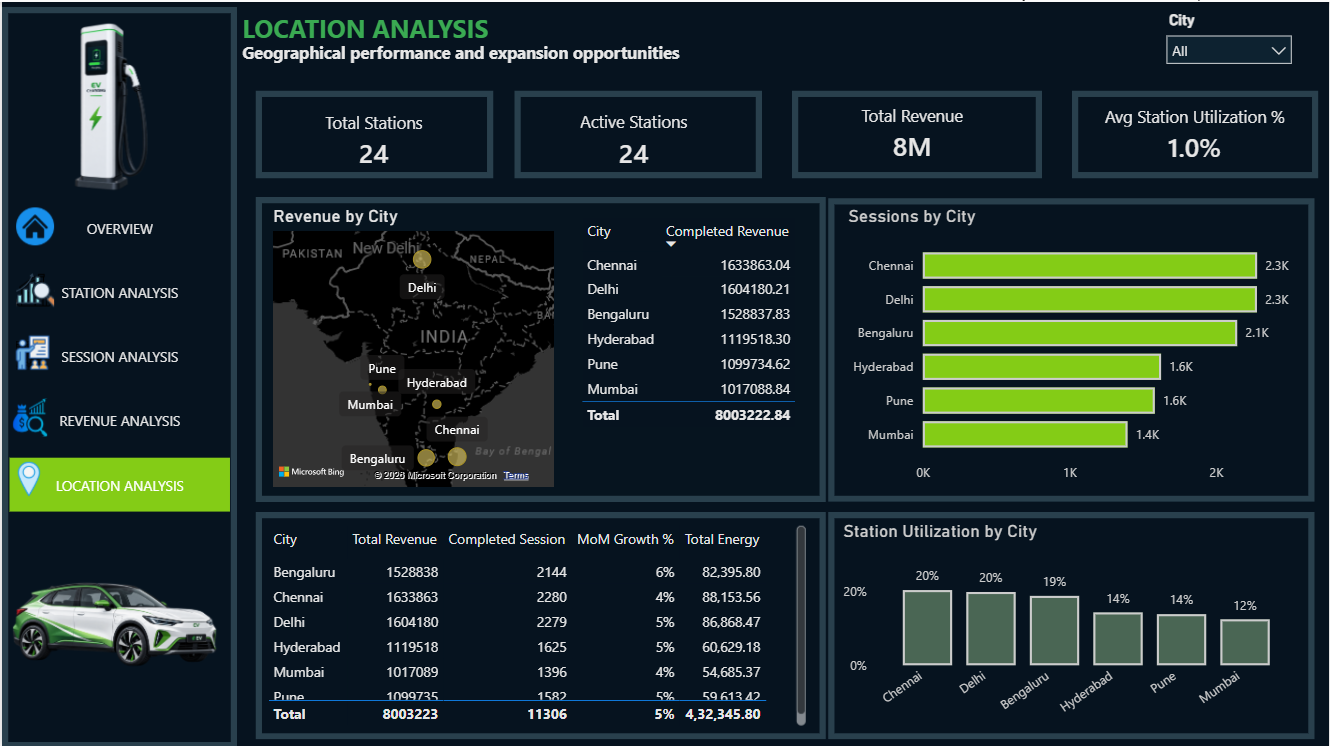

This screenshot's page, from the dashboard's own definition file:
{"tool":"powerbi","page":{"name":"LOCATION ANALYSIS","canvas":[1280,720],"ordinal":4},"visuals":[{"type":"actionButton","box":[4.8,482.6,208.7,229.2],"z":0},{"type":"shape","box":[0,4.6,226.8,715.4],"z":1000},{"type":"pageNavigator","box":[7.2,191.8,213.5,300.4],"z":2000},{"type":"textbox","box":[226.8,4.8,739.5,42.2],"z":3000},{"type":"textbox","box":[226.8,32.6,744.4,49.5],"z":4000},{"type":"actionButton","box":[10,253.8,42.5,50],"z":5000},{"type":"actionButton","box":[9.7,194.2,44.6,44.6],"z":6000},{"type":"actionButton","box":[10,256.3,45,45],"z":7000},{"type":"actionButton","box":[10.1,318.2,32.7,42.8],"z":8000},{"type":"actionButton","box":[10.1,321.9,32.7,40.2],"z":9000},{"type":"actionButton","box":[7.2,316.1,44.6,44.6],"z":10000},{"type":"actionButton","box":[4.8,378.8,44.6,44.6],"z":11000},{"type":"actionButton","box":[3.6,437.9,44.6,44.6],"z":12000},{"type":"actionButton","box":[16.9,14.5,196.6,173.7],"z":13000},{"type":"cardVisual","fields":{"Data":["measure.Total Stations"]},"box":[244.9,79.6,228,108.6],"z":14000},{"type":"shape","box":[244.9,85.7,229.2,84.5],"z":15000},{"type":"shape","box":[494.6,85.7,238.9,84.5],"z":16000},{"type":"shape","box":[762.5,85.7,241.3,84.5],"z":17000},{"type":"shape","box":[1032.7,85.7,237.7,84.5],"z":18000},{"type":"cardVisual","fields":{"Data":["measure.Active Stations"]},"box":[486.2,70,247.3,126.7],"z":19000},{"type":"cardVisual","fields":{"Data":["measure.Total Revenue"]},"box":[754,78.4,249.7,97.7],"z":20000},{"type":"cardVisual","fields":{"Data":["measure.Avg Station Utilization %"]},"box":[1029.1,70,244.9,115.8],"z":21000},{"type":"shape","box":[244.9,188.2,550.1,294.4],"z":22000},{"type":"slicer","fields":{"Values":["EV_Charging_Station.City"]},"box":[1113.5,3.6,141.2,57.9],"z":23000},{"type":"shape","box":[797.5,189.4,469.3,293.2],"z":24000},{"type":"map","title":"Revenue by City ","fields":{"Category":["EV_Charging_Station.City"],"Size":["measure.Completed Revenue"]},"box":[257,196.6,281.1,276.3],"z":25000},{"type":"tableEx","fields":{"Values":["EV_Charging_Station.City","measure.Completed Revenue"]},"box":[553.8,203.9,226.8,234],"z":26000},{"type":"shape","box":[244.9,492.2,550.1,219.6],"z":27000},{"type":"clusteredBarChart","title":"Sessions by City ","fields":{"Category":["EV_Charging_Station.City"],"Y":["measure.Completed Session"]},"box":[811.9,196.6,442.8,276.3],"z":28000},{"type":"clusteredColumnChart","title":"Station Utilization by City ","fields":{"Category":["EV_Charging_Station.City"],"Y":["Sum(EV_Charging_Station.Station_Utilization_%)"]},"box":[807.1,500.7,447.6,202.7],"z":29000},{"type":"shape","box":[797.5,492.2,469.3,219.6],"z":30000},{"type":"tableEx","fields":{"Values":["EV_Charging_Station.City","measure.Total Revenue","measure.Completed Session","measure.MoM Growth %","measure.Total Energy"]},"box":[250.9,500.7,529.6,202.7],"z":31000}]}

Visuals, with their boxes in screenshot pixels (x1, y1, x2, y2), scaled from the page's 1280x720 canvas onto the 1330x746 screenshot:
actionButton: bbox=[5, 500, 222, 738]
shape: bbox=[0, 5, 236, 745]
pageNavigator: bbox=[7, 199, 229, 510]
textbox: bbox=[236, 5, 1004, 49]
textbox: bbox=[236, 34, 1009, 85]
actionButton: bbox=[10, 263, 55, 315]
actionButton: bbox=[10, 201, 56, 247]
actionButton: bbox=[10, 266, 57, 312]
actionButton: bbox=[10, 330, 44, 374]
actionButton: bbox=[10, 334, 44, 375]
actionButton: bbox=[7, 328, 54, 374]
actionButton: bbox=[5, 392, 51, 439]
actionButton: bbox=[4, 454, 50, 500]
actionButton: bbox=[18, 15, 222, 195]
cardVisual - measure.Total Stations: bbox=[254, 82, 491, 195]
shape: bbox=[254, 89, 493, 176]
shape: bbox=[514, 89, 762, 176]
shape: bbox=[792, 89, 1043, 176]
shape: bbox=[1073, 89, 1320, 176]
cardVisual - measure.Active Stations: bbox=[505, 73, 762, 204]
cardVisual - measure.Total Revenue: bbox=[783, 81, 1043, 182]
cardVisual - measure.Avg Station Utilization %: bbox=[1069, 73, 1324, 193]
shape: bbox=[254, 195, 826, 500]
slicer - EV_Charging_Station.City: bbox=[1157, 4, 1304, 64]
shape: bbox=[829, 196, 1316, 500]
"Revenue by City " map: bbox=[267, 204, 559, 490]
tableEx - EV_Charging_Station.City x measure.Completed Revenue: bbox=[575, 211, 811, 454]
shape: bbox=[254, 510, 826, 738]
"Sessions by City " clusteredBarChart: bbox=[844, 204, 1304, 490]
"Station Utilization by City " clusteredColumnChart: bbox=[839, 519, 1304, 729]
shape: bbox=[829, 510, 1316, 738]
tableEx - EV_Charging_Station.City x measure.Total Revenue: bbox=[261, 519, 811, 729]
